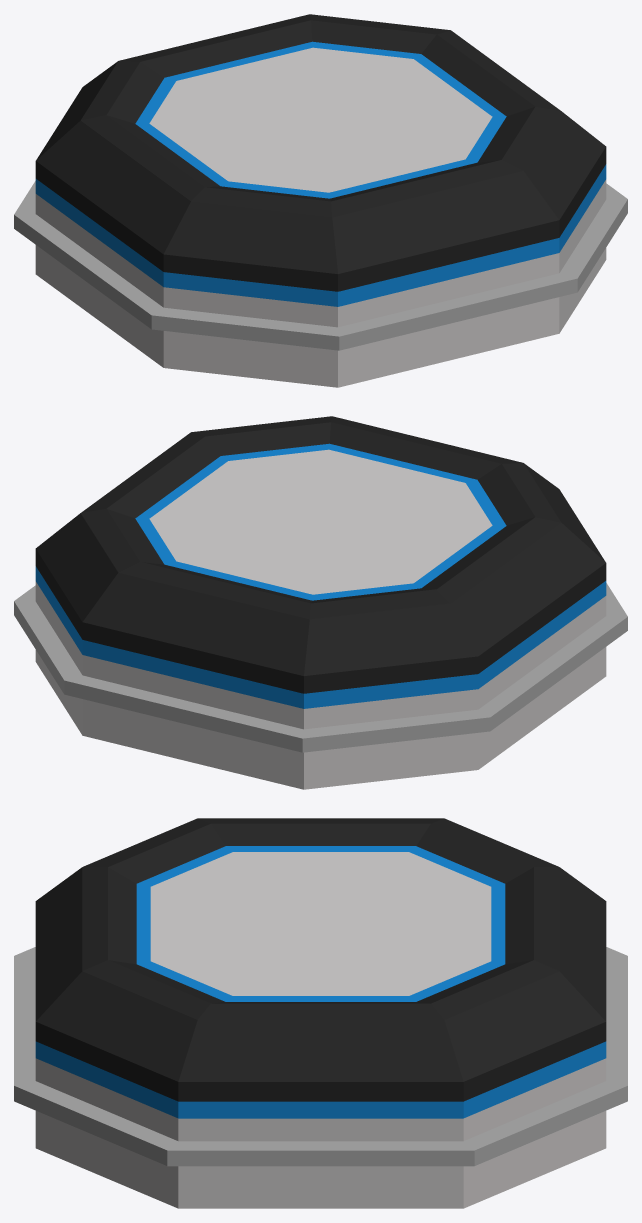
3 renders of one model, top to bottom at view 1: azimuth 30°, elevation 25°; view 2: azimuth 150°, elevation 25°; view 3: azimuth 270°, elevation 25°, orthographic. The views are drawn at different scales.
Parts seen in each view (by area): view 1: Base2, pCube1; view 2: Base2, pCube1; view 3: Base2, pCube1.
Boxes of the visible parts, x1,y1,x2,y2 form: Base2: [35, 14, 606, 387]; pCube1: [14, 181, 627, 350]; Base2: [35, 416, 606, 789]; pCube1: [14, 583, 627, 752]; Base2: [35, 818, 606, 1208]; pCube1: [14, 947, 627, 1166].
Bounding box in the file's own units: 3.29 × 1.03 × 3.29.
